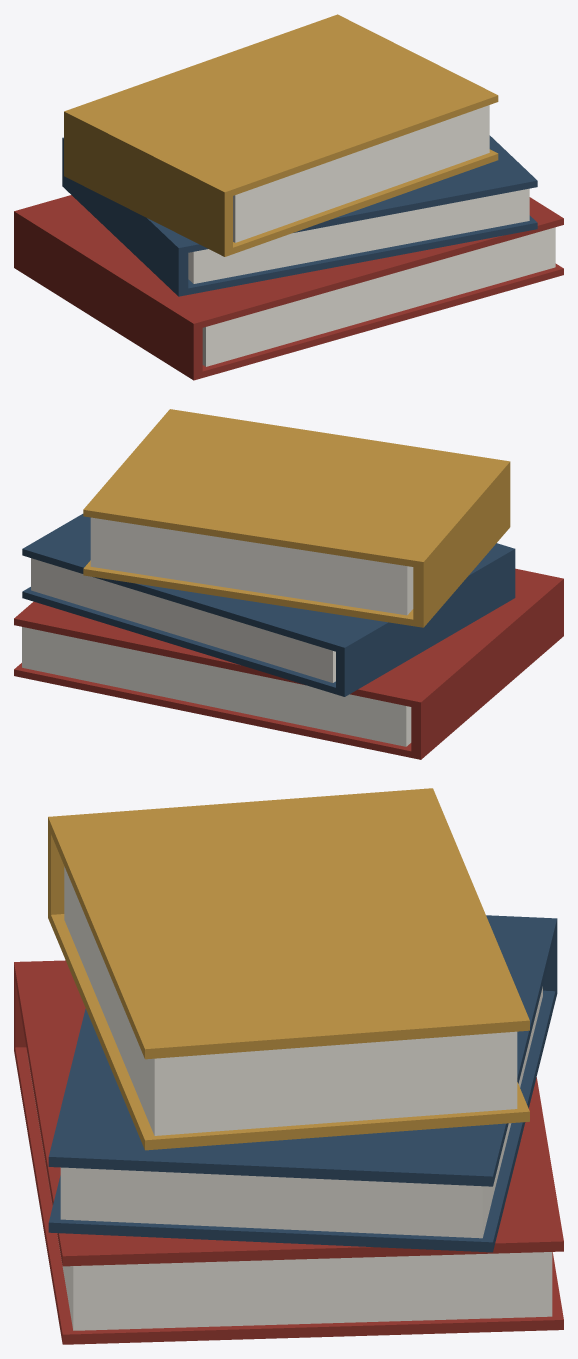
File: PilaDeLibros.fbx
The picture shows the model from 3 angles, top to bottom: view 1: azimuth 30°, elevation 25°; view 2: azimuth 150°, elevation 25°; view 3: azimuth 270°, elevation 25°; orthographic projection. The views are drawn at different scales.
Visible parts, largest first — view 1: Deco_Libros_Comoda; view 2: Deco_Libros_Comoda; view 3: Deco_Libros_Comoda.
Boxes of the visible parts, x1,y1,x2,y2 form: Deco_Libros_Comoda: (14, 14, 563, 380); Deco_Libros_Comoda: (14, 409, 563, 759); Deco_Libros_Comoda: (14, 788, 563, 1344).
Size of the model in its own units: 0.2619 by 0.105 by 0.197.
